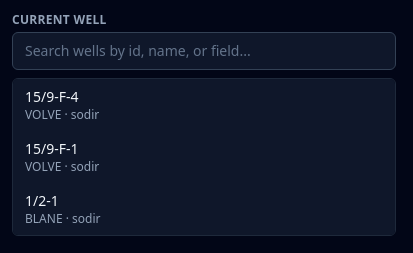
WellSelector › filters the list by search text
The image size is (413, 253).
Type "blane" into the field labelled "Current Well" at point(204, 51), box [12,32,396,70]
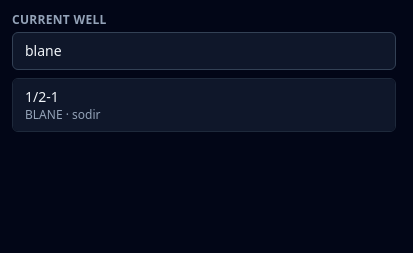
expect the text "1/2-1" is shown: met, box [25,87,59,107]
expect the button "15/9-F-4" is gone: met
